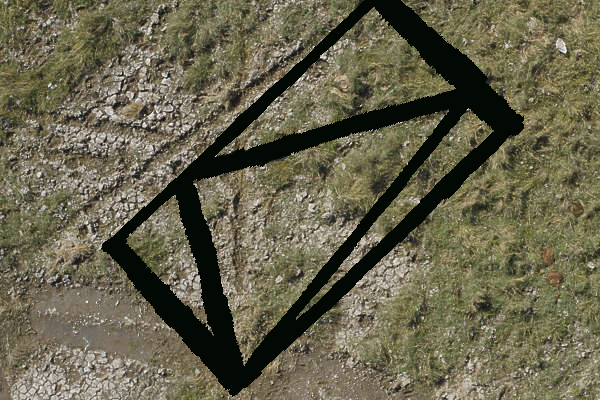marker: (98, 1, 529, 399)
